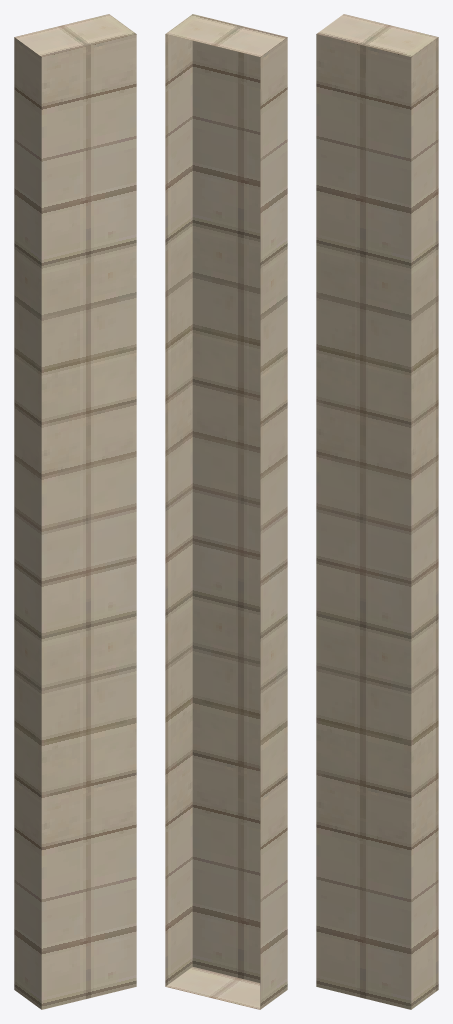
File: pillar1_005.glb
3 renders of one model, left to right at view 1: azimuth 30°, elevation 25°; view 2: azimuth 150°, elevation 25°; view 3: azimuth 330°, elevation 25°, orthographic.
Visible parts, largest first — view 1: pillar1.005; view 2: pillar1.005; view 3: pillar1.005.
Boxes of the visible parts, <box> form: pillar1.005: <box>14,14,136,1009</box>; pillar1.005: <box>165,14,287,1009</box>; pillar1.005: <box>316,14,438,1009</box>.
Size of the model in its own units: 0.25 by 2.4 by 0.125.
1 material, 1 textured.
